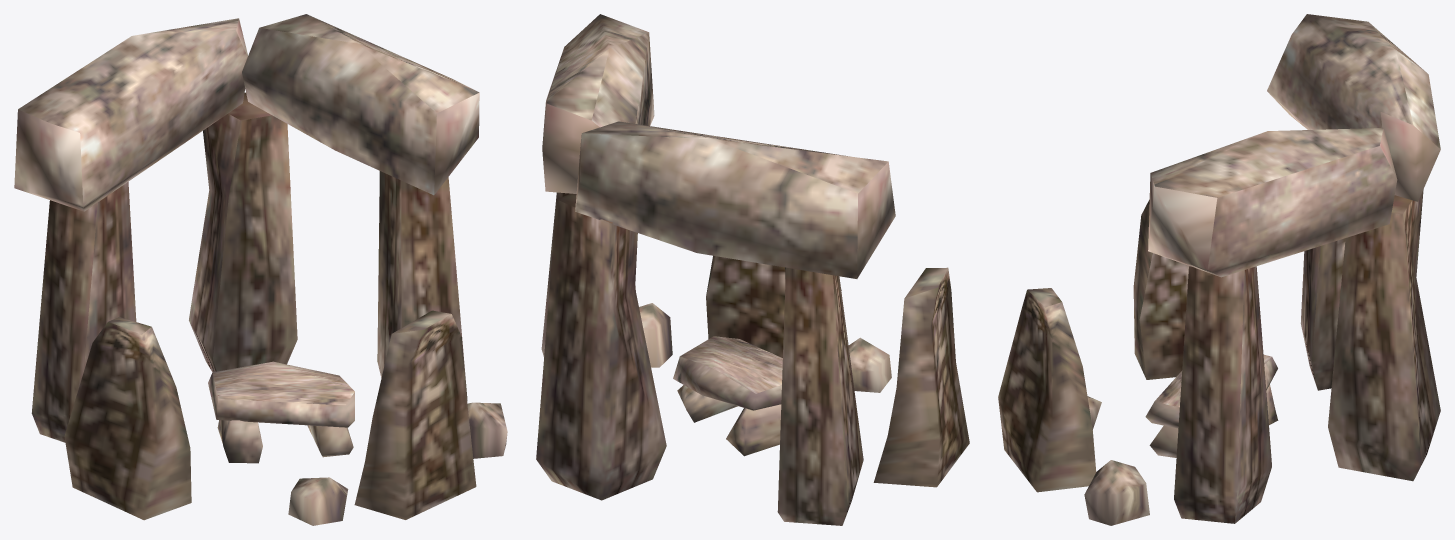
The model's file is santuario_nordico_base.glb.
The picture shows the model from 3 angles, left to right: view 1: azimuth 30°, elevation 25°; view 2: azimuth 150°, elevation 25°; view 3: azimuth 270°, elevation 25°; orthographic projection. The views are drawn at different scales.
Visible parts, largest first — view 1: MeshRoot; view 2: MeshRoot; view 3: MeshRoot.
Part boxes in pixels (box(x1,y1,x2,y2)): MeshRoot: box(14, 14, 507, 525); MeshRoot: box(536, 14, 969, 525); MeshRoot: box(998, 14, 1440, 525).
Size of the model in its own units: 4.69 by 4.07 by 4.53.
Materials: 2 (2 with a texture image).
